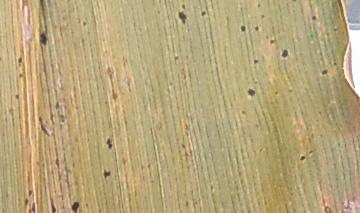tarspot: (38, 28, 48, 47), (100, 167, 113, 181), (70, 200, 83, 213), (176, 11, 188, 25), (49, 198, 60, 213), (245, 86, 258, 98), (104, 136, 113, 152), (279, 47, 290, 59), (15, 55, 23, 71), (53, 98, 61, 112), (179, 139, 187, 152), (298, 152, 307, 163), (12, 92, 21, 103), (29, 201, 37, 213), (319, 67, 329, 76), (180, 2, 190, 11), (26, 188, 35, 198), (252, 56, 260, 66), (307, 147, 315, 156), (199, 10, 208, 18), (240, 24, 247, 34), (23, 197, 29, 208), (311, 15, 319, 23), (252, 25, 260, 33), (258, 12, 266, 20), (172, 53, 179, 61), (81, 21, 88, 28), (270, 38, 276, 46), (256, 2, 262, 10), (17, 72, 24, 78), (332, 61, 338, 67)
